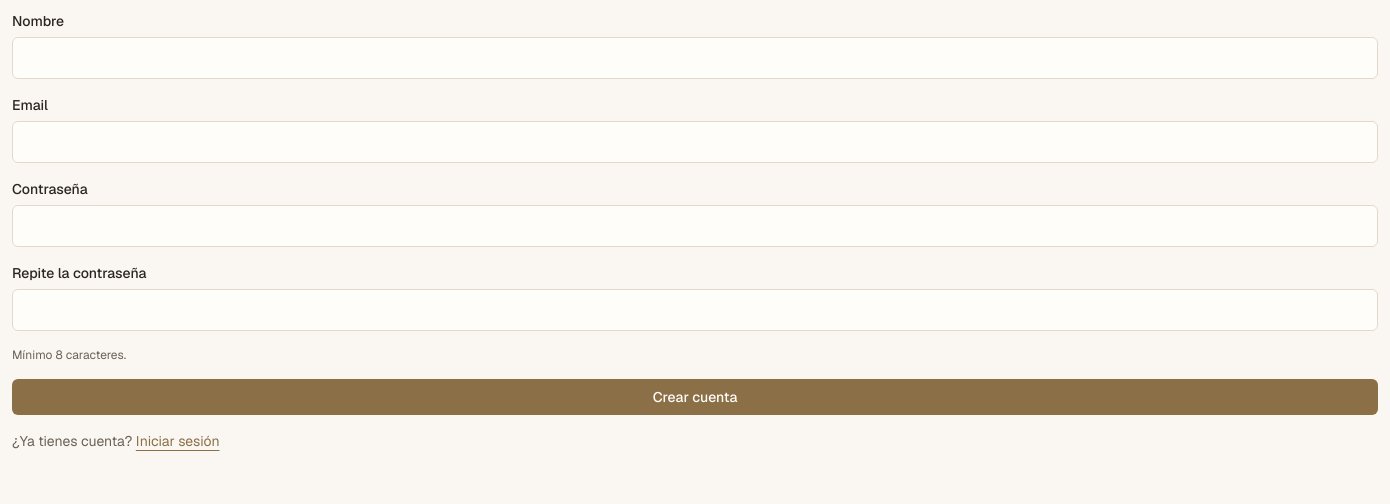
Scenario: RegistroForm › con_email_ya_registrado_muestra_el_mensaje_de_conflicto
Type "Ana Pérez" into the field labelled "Nombre". click: x=695, y=58
box: [12,37,1378,79]
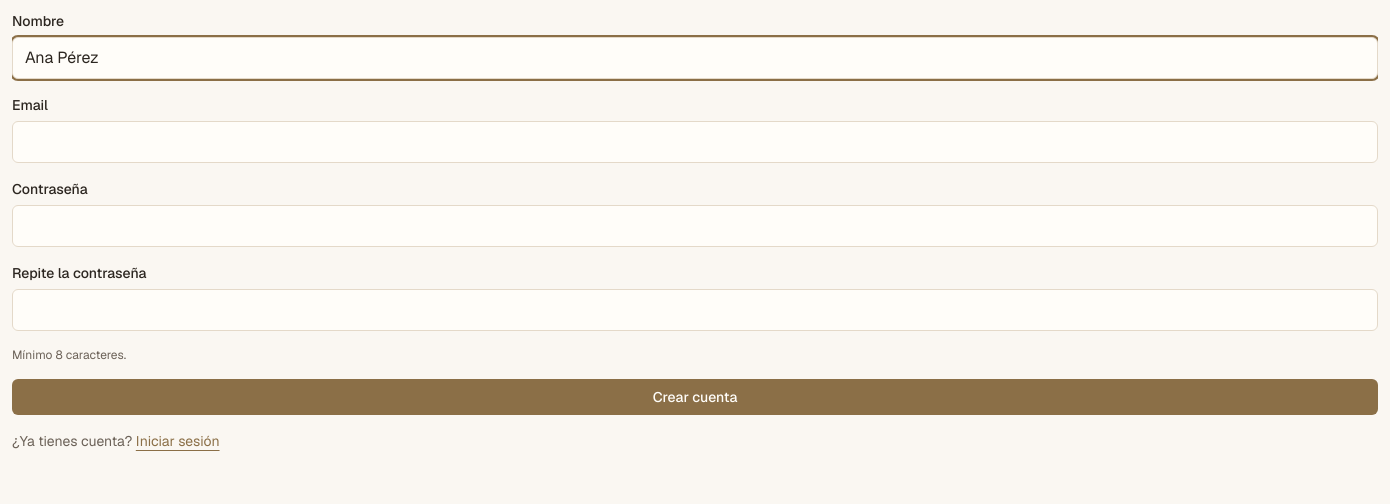
Type "ana@example.com" into the field labelled "Email". click: x=695, y=142
box: [12,121,1378,163]
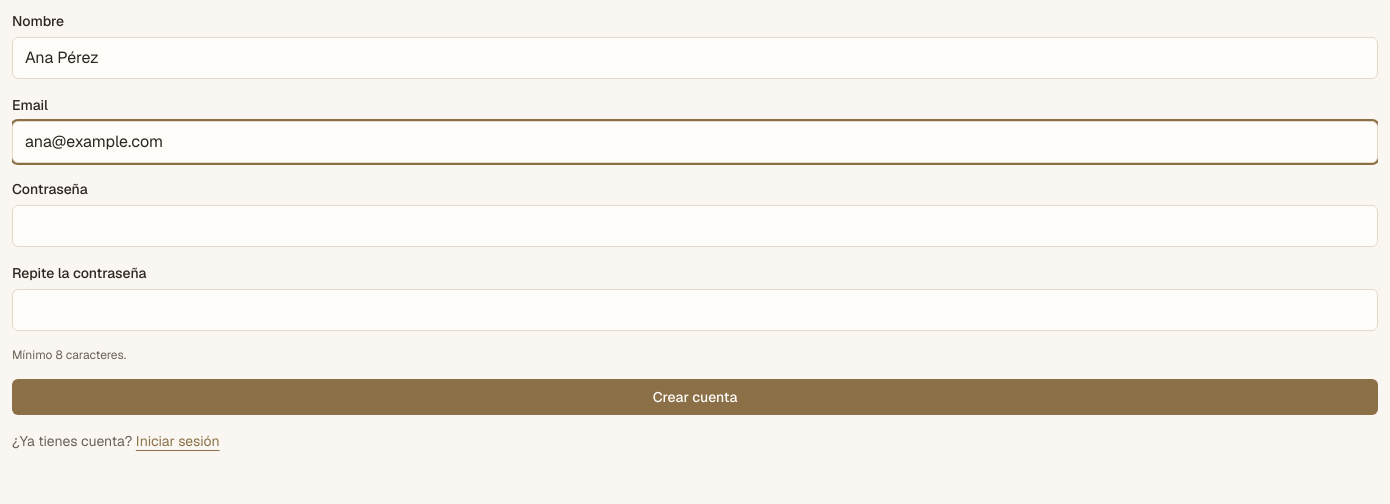
Type "secreto123" into the password field labelled "Contraseña". click: x=695, y=226
box: [12,205,1378,247]
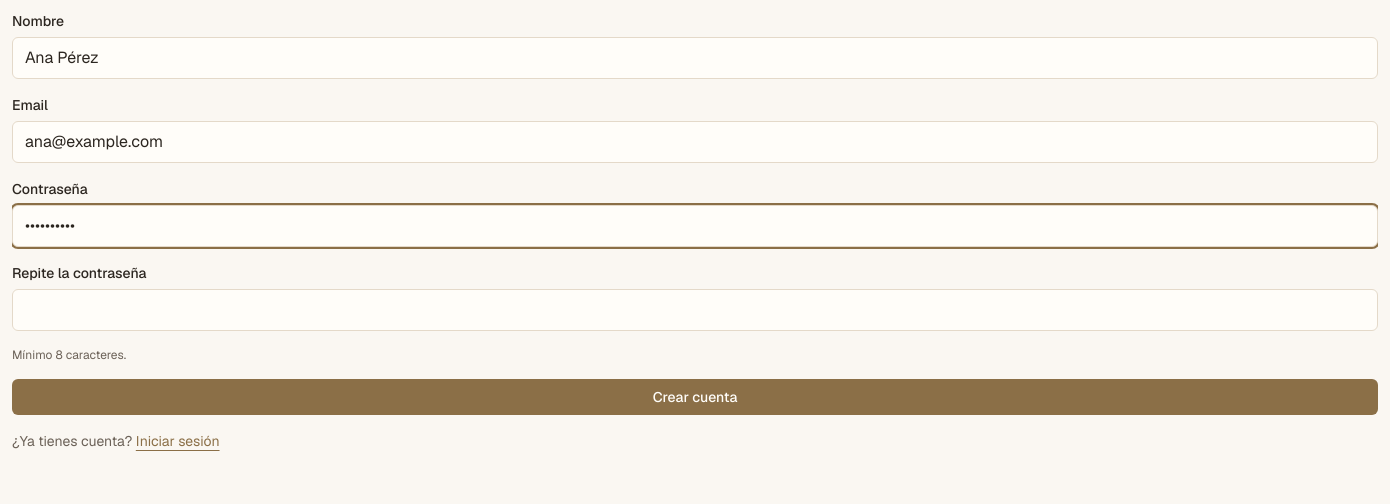
Type "secreto123" into the password field labelled "Repite la contraseña". click: x=695, y=310
box: [12,289,1378,331]
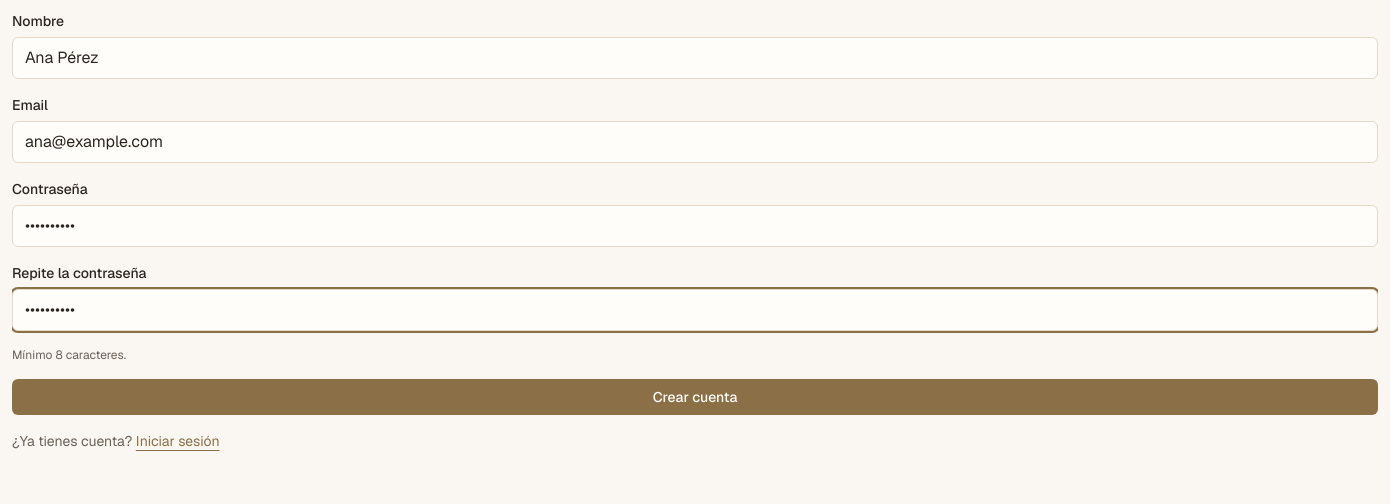
Click the button "Crear cuenta". click: x=695, y=397
box: [12,379,1378,415]
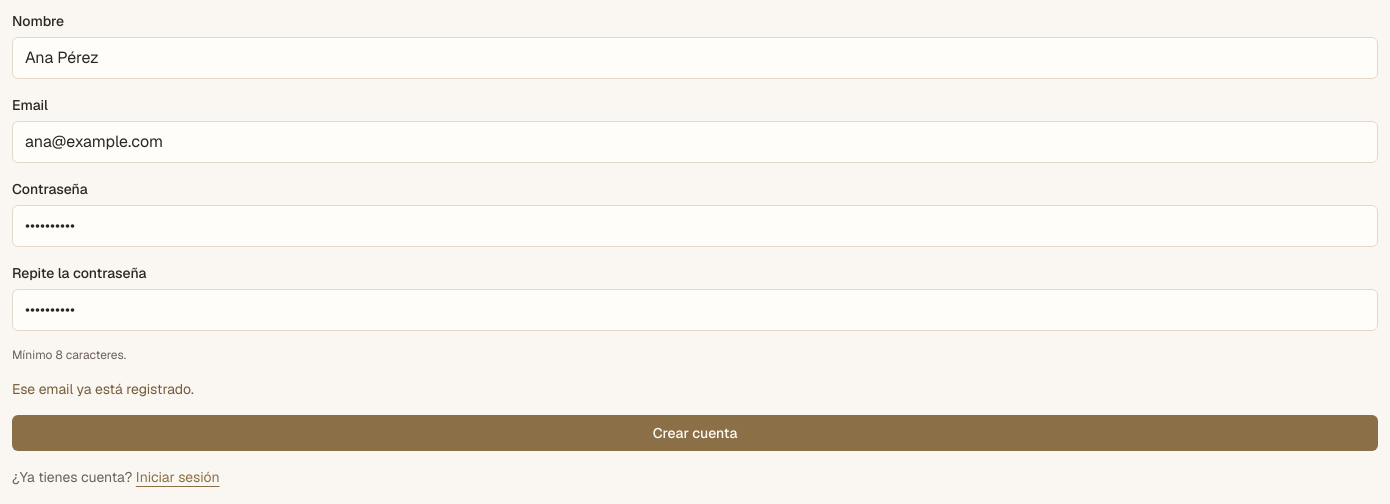
Result: the message reads "Ese email ya está registrado." at [12,380,194,398]
